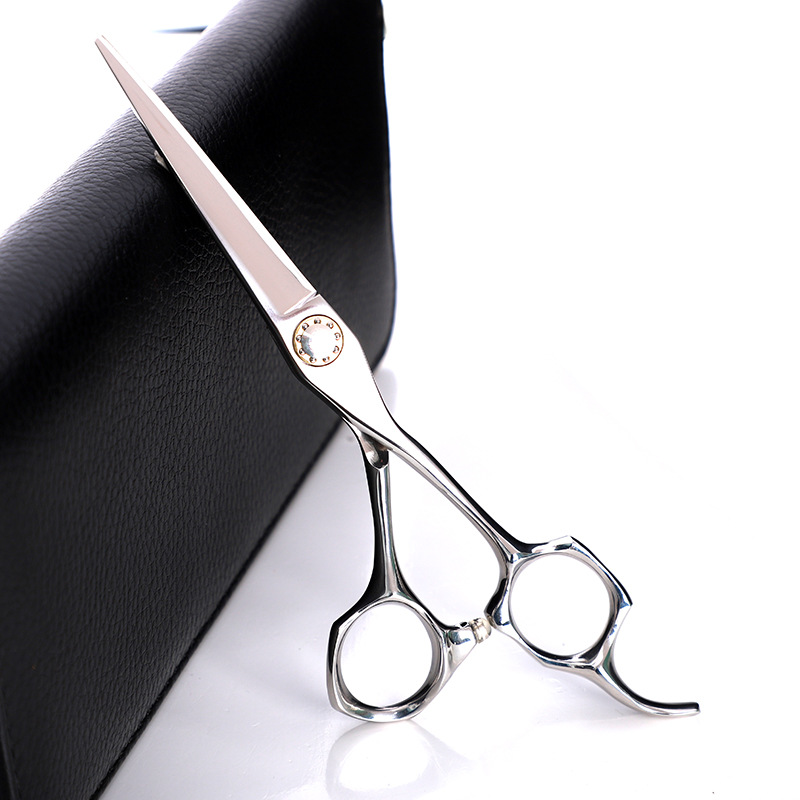scissors: (84, 29, 706, 733)
